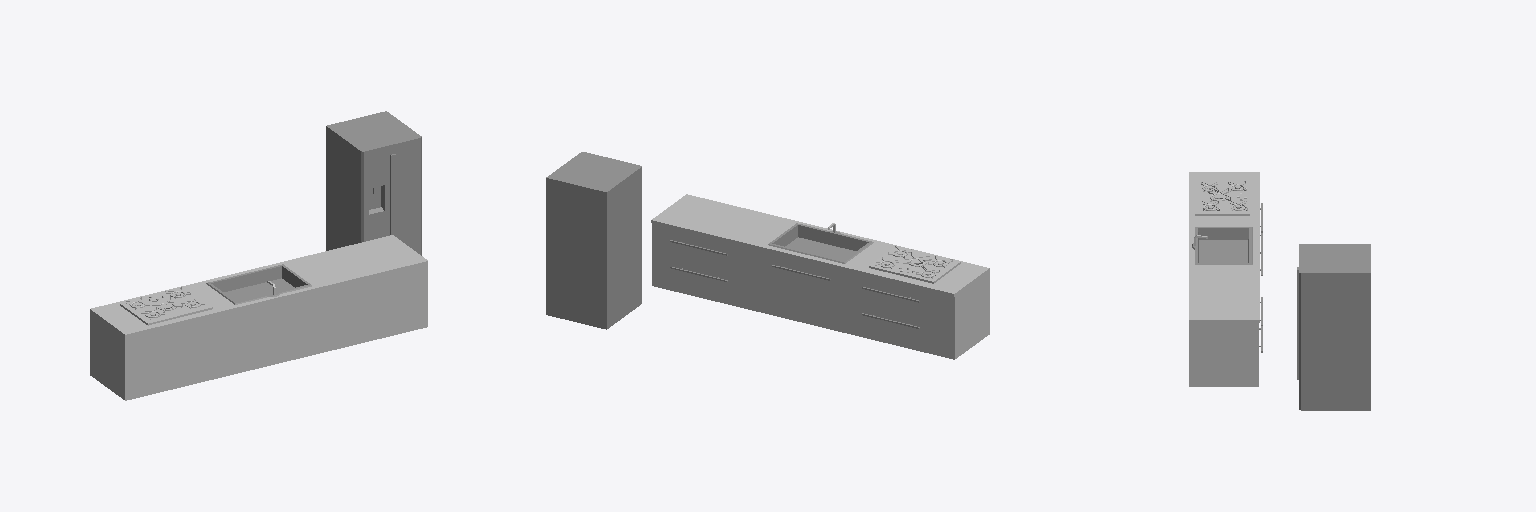
Rendered from Kitchen.obj.
3 renders of one model, left to right at view 1: azimuth 30°, elevation 25°; view 2: azimuth 150°, elevation 25°; view 3: azimuth 270°, elevation 25°, orthographic.
Visible parts, largest first — view 1: Unit_Cube_Cube.003, Fridge_Cube_Cube.002, Sink_Cube_Cube.004, fogão_OBJ; view 2: Unit_Cube_Cube.003, Fridge_Cube_Cube.002, Sink_Cube_Cube.004, fogão_OBJ, Handles_Cube_Cube.006; view 3: Fridge_Cube_Cube.002, Unit_Cube_Cube.003, Sink_Cube_Cube.004, fogão_OBJ.
Boxes of the visible parts, x1=… form: Unit_Cube_Cube.003: x1=90, y1=235, x2=427, y2=400; Fridge_Cube_Cube.002: x1=326, y1=111, x2=421, y2=255; Sink_Cube_Cube.004: x1=206, y1=264, x2=311, y2=304; fogão_OBJ: x1=120, y1=287, x2=212, y2=325; Unit_Cube_Cube.003: x1=651, y1=194, x2=989, y2=359; Fridge_Cube_Cube.002: x1=546, y1=152, x2=641, y2=329; Sink_Cube_Cube.004: x1=768, y1=223, x2=873, y2=263; fogão_OBJ: x1=869, y1=246, x2=960, y2=283; Handles_Cube_Cube.006: x1=670, y1=240, x2=919, y2=328; Fridge_Cube_Cube.002: x1=1297, y1=244, x2=1370, y2=410; Unit_Cube_Cube.003: x1=1189, y1=172, x2=1259, y2=386; Sink_Cube_Cube.004: x1=1192, y1=227, x2=1252, y2=264; fogão_OBJ: x1=1195, y1=181, x2=1249, y2=215.
Bounding box in the file's own units: 7.59 × 2.82 × 3.4.